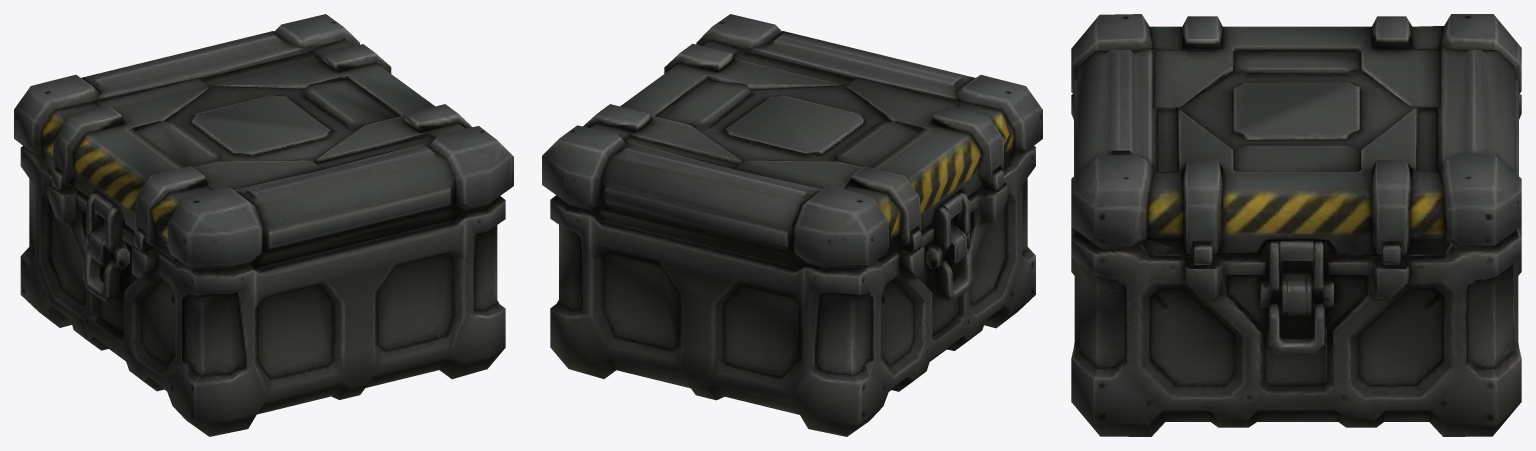
File: arena-crate-v1.glb
The picture shows the model from 3 angles, left to right: view 1: azimuth 30°, elevation 25°; view 2: azimuth 150°, elevation 25°; view 3: azimuth 270°, elevation 25°; orthographic projection. The views are drawn at different scales.
Visible parts, largest first — view 1: arena-crate-v1; view 2: arena-crate-v1; view 3: arena-crate-v1.
Part boxes in pixels (bbox=[...]): arena-crate-v1: bbox=[14, 14, 513, 436]; arena-crate-v1: bbox=[542, 14, 1042, 436]; arena-crate-v1: bbox=[1071, 14, 1521, 436].
Bounding box in the file's own units: 1.15 × 0.7405 × 1.15.
Materials: 1 (1 with a texture image).
